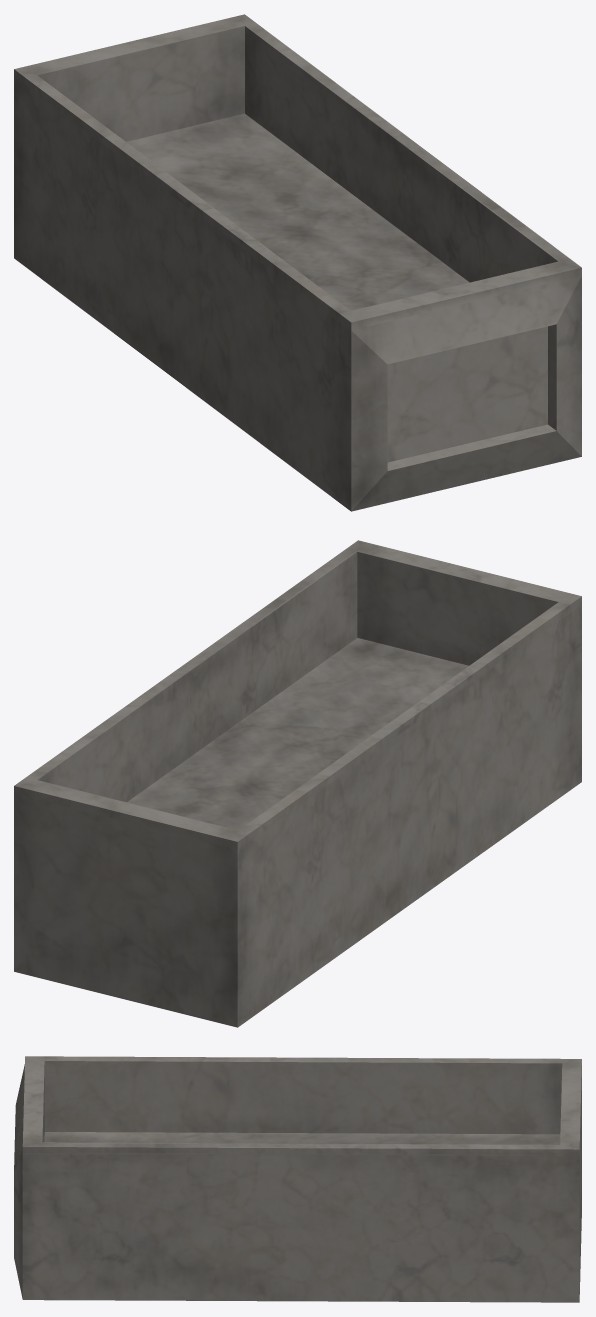
Rendered from sacofago_piedra_UVM.fbx.
The picture shows the model from 3 angles, top to bottom: view 1: azimuth 30°, elevation 25°; view 2: azimuth 150°, elevation 25°; view 3: azimuth 270°, elevation 25°; orthographic projection. The views are drawn at different scales.
Visible parts, largest first — view 1: sacofago_piedra; view 2: sacofago_piedra; view 3: sacofago_piedra.
Boxes of the visible parts, x1,y1,x2,y2 form: sacofago_piedra: [14, 14, 581, 511]; sacofago_piedra: [14, 540, 581, 1027]; sacofago_piedra: [14, 1056, 581, 1302].
Bounding box in the file's own units: 103 × 78.83 × 265.
